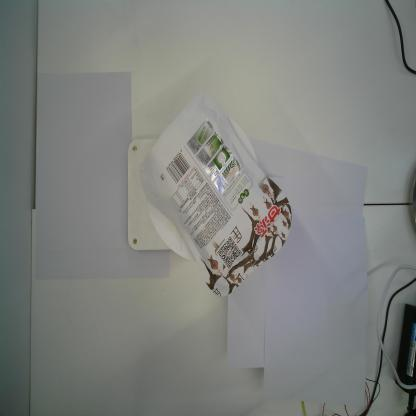Dried Fruit: (139, 91, 293, 298)
